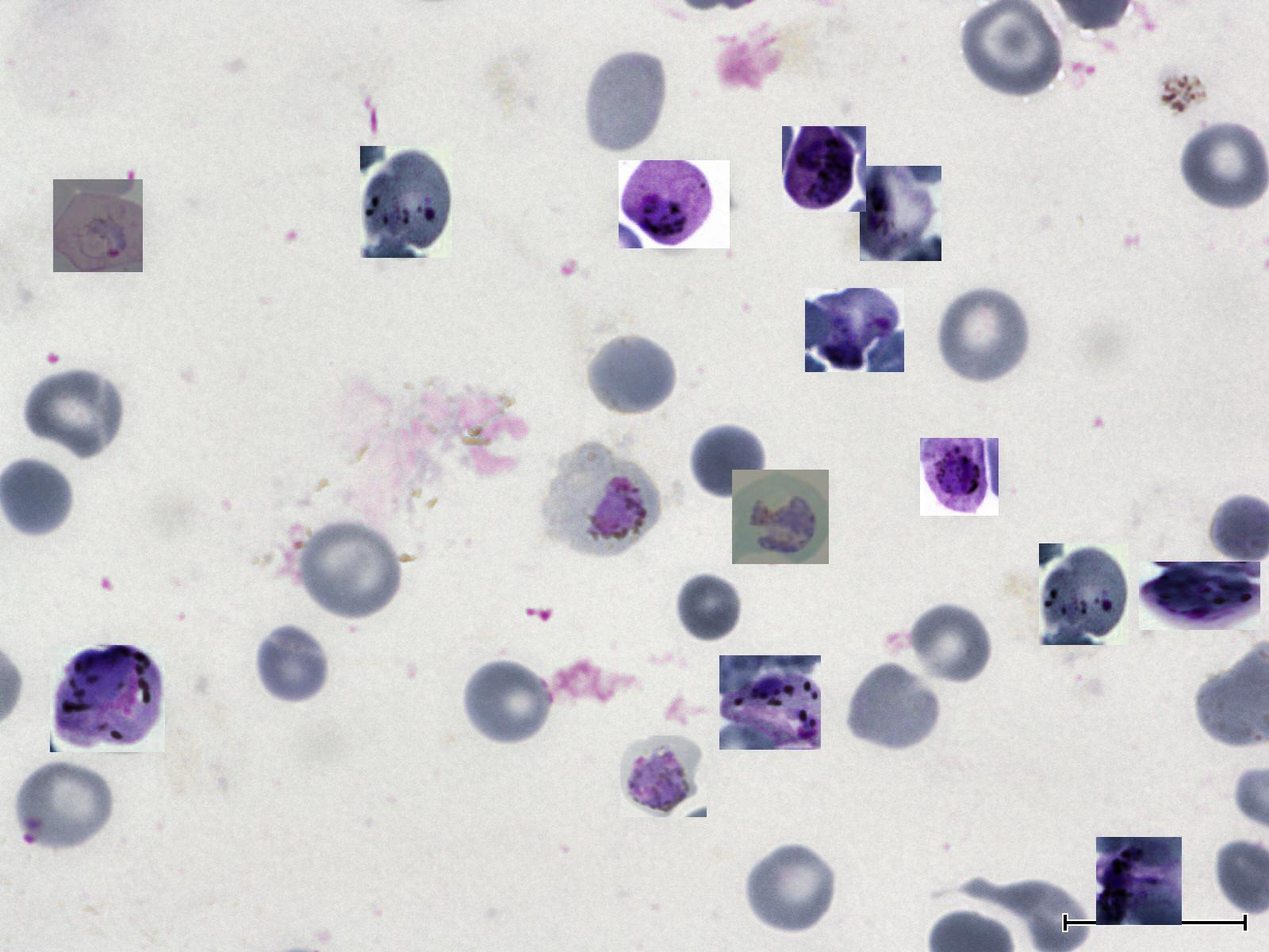Infected: (542, 443, 660, 559), (50, 645, 165, 752), (360, 146, 452, 258), (619, 160, 730, 248), (719, 655, 821, 750), (1039, 543, 1129, 645), (732, 470, 829, 564), (53, 179, 143, 272), (805, 289, 904, 373), (1139, 562, 1260, 630), (860, 166, 941, 261), (1096, 837, 1182, 925), (782, 126, 866, 212), (620, 735, 707, 817), (920, 438, 999, 516)
Uninfected: (297, 517, 401, 619), (959, 0, 1063, 101), (934, 283, 1033, 386), (580, 48, 669, 156), (23, 365, 124, 459), (16, 757, 114, 852), (845, 659, 941, 754), (744, 842, 838, 935), (462, 657, 554, 747), (1179, 121, 1268, 213), (585, 332, 677, 417), (906, 601, 993, 686), (253, 622, 331, 705), (680, 416, 761, 490), (673, 570, 744, 644)
